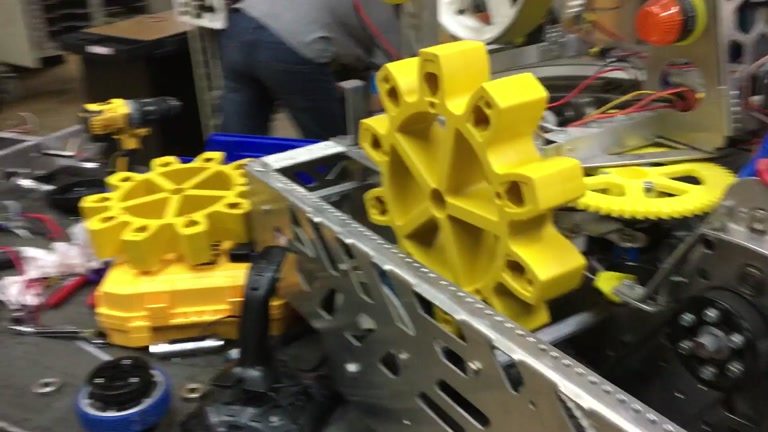gear: (356, 38, 587, 345), (76, 151, 267, 272)
